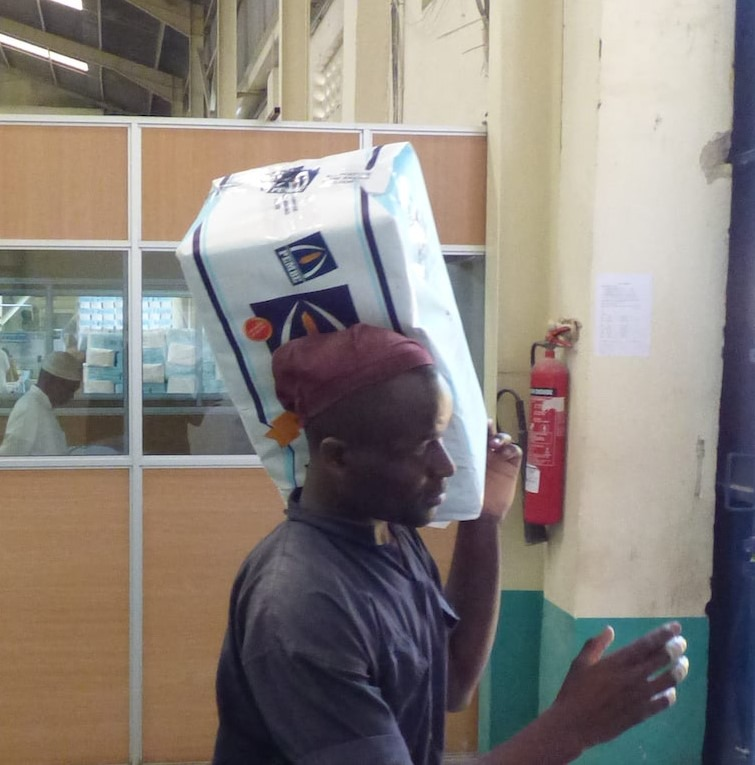wheat_flour_blue_label: (173, 136, 485, 524)
